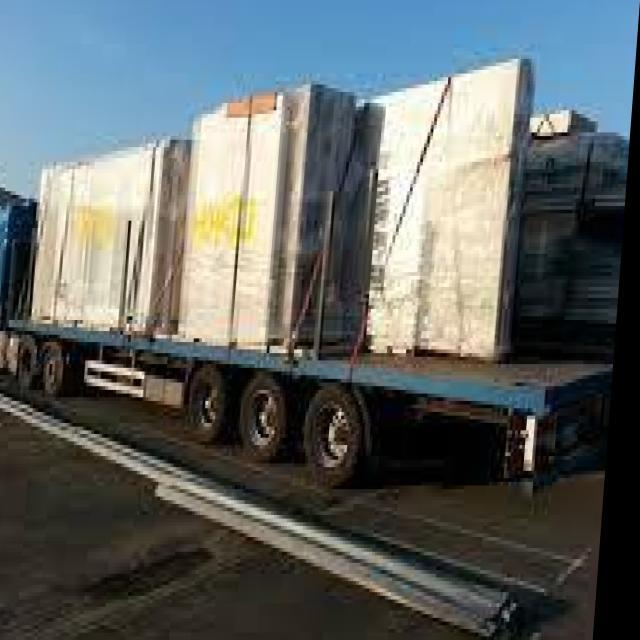uncovered: (0, 55, 637, 464)
